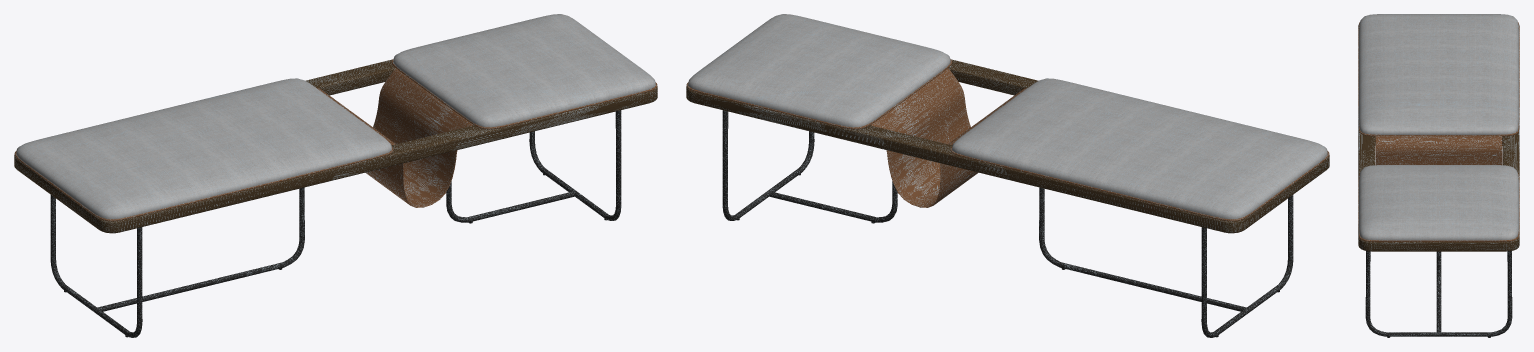
The model's file is bench2.dae.
3 renders of one model, left to right at view 1: azimuth 30°, elevation 25°; view 2: azimuth 150°, elevation 25°; view 3: azimuth 270°, elevation 25°, orthographic. The views are drawn at different scales.
Parts seen in each view (by area): view 1: skp78FA (×11); view 2: skp78FA (×11); view 3: skp78FA (×8).
Boxes of the visible parts, <box> form: skp78FA (×11): <box>14,14,657,337</box>; skp78FA (×11): <box>686,14,1329,337</box>; skp78FA (×8): <box>1358,14,1519,336</box>.
Size of the model in its own units: 7097 by 2165 by 1827.
Materials: 5 (3 with a texture image).
